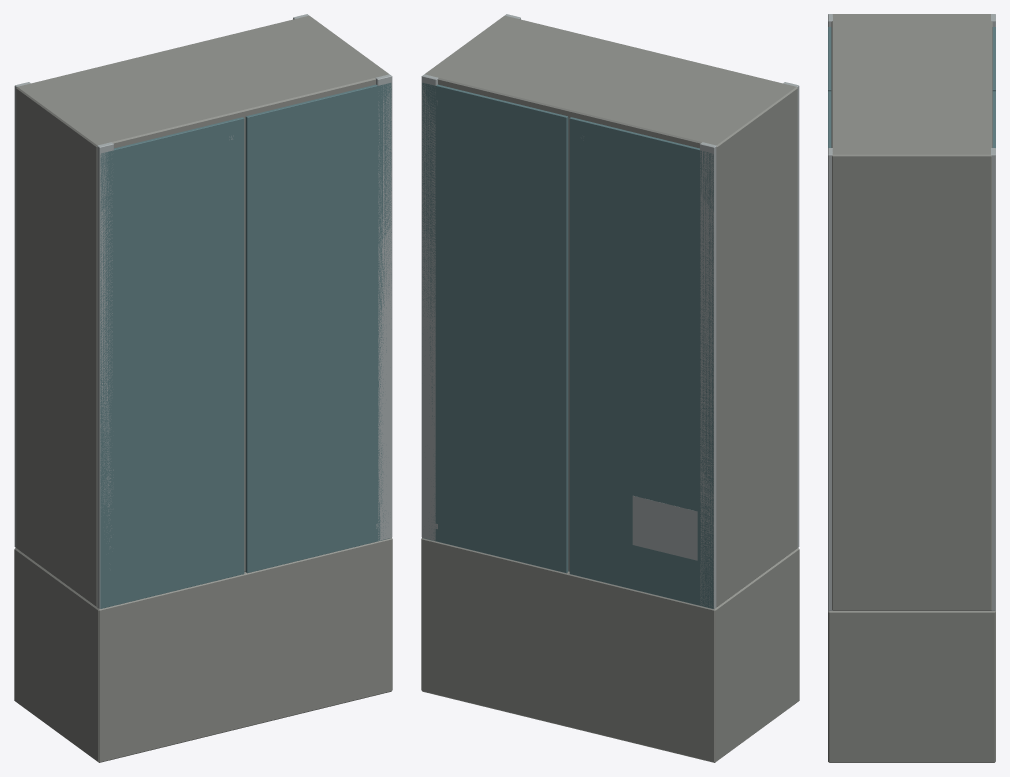
The model's file is industrial_wall_2m.glb.
3 views of the same model, side by side, from view 1: azimuth 30°, elevation 25°; view 2: azimuth 150°, elevation 25°; view 3: azimuth 270°, elevation 25° (orthographic).
Visible parts, largest first — view 1: industrial_wall_2m; view 2: industrial_wall_2m; view 3: industrial_wall_2m.
Boxes of the visible parts, x1=… form: industrial_wall_2m: x1=14, y1=14, x2=392, y2=762; industrial_wall_2m: x1=421, y1=14, x2=799, y2=762; industrial_wall_2m: x1=828, y1=14, x2=995, y2=762.
Bounding box in the file's own units: 2 × 4 × 1.
